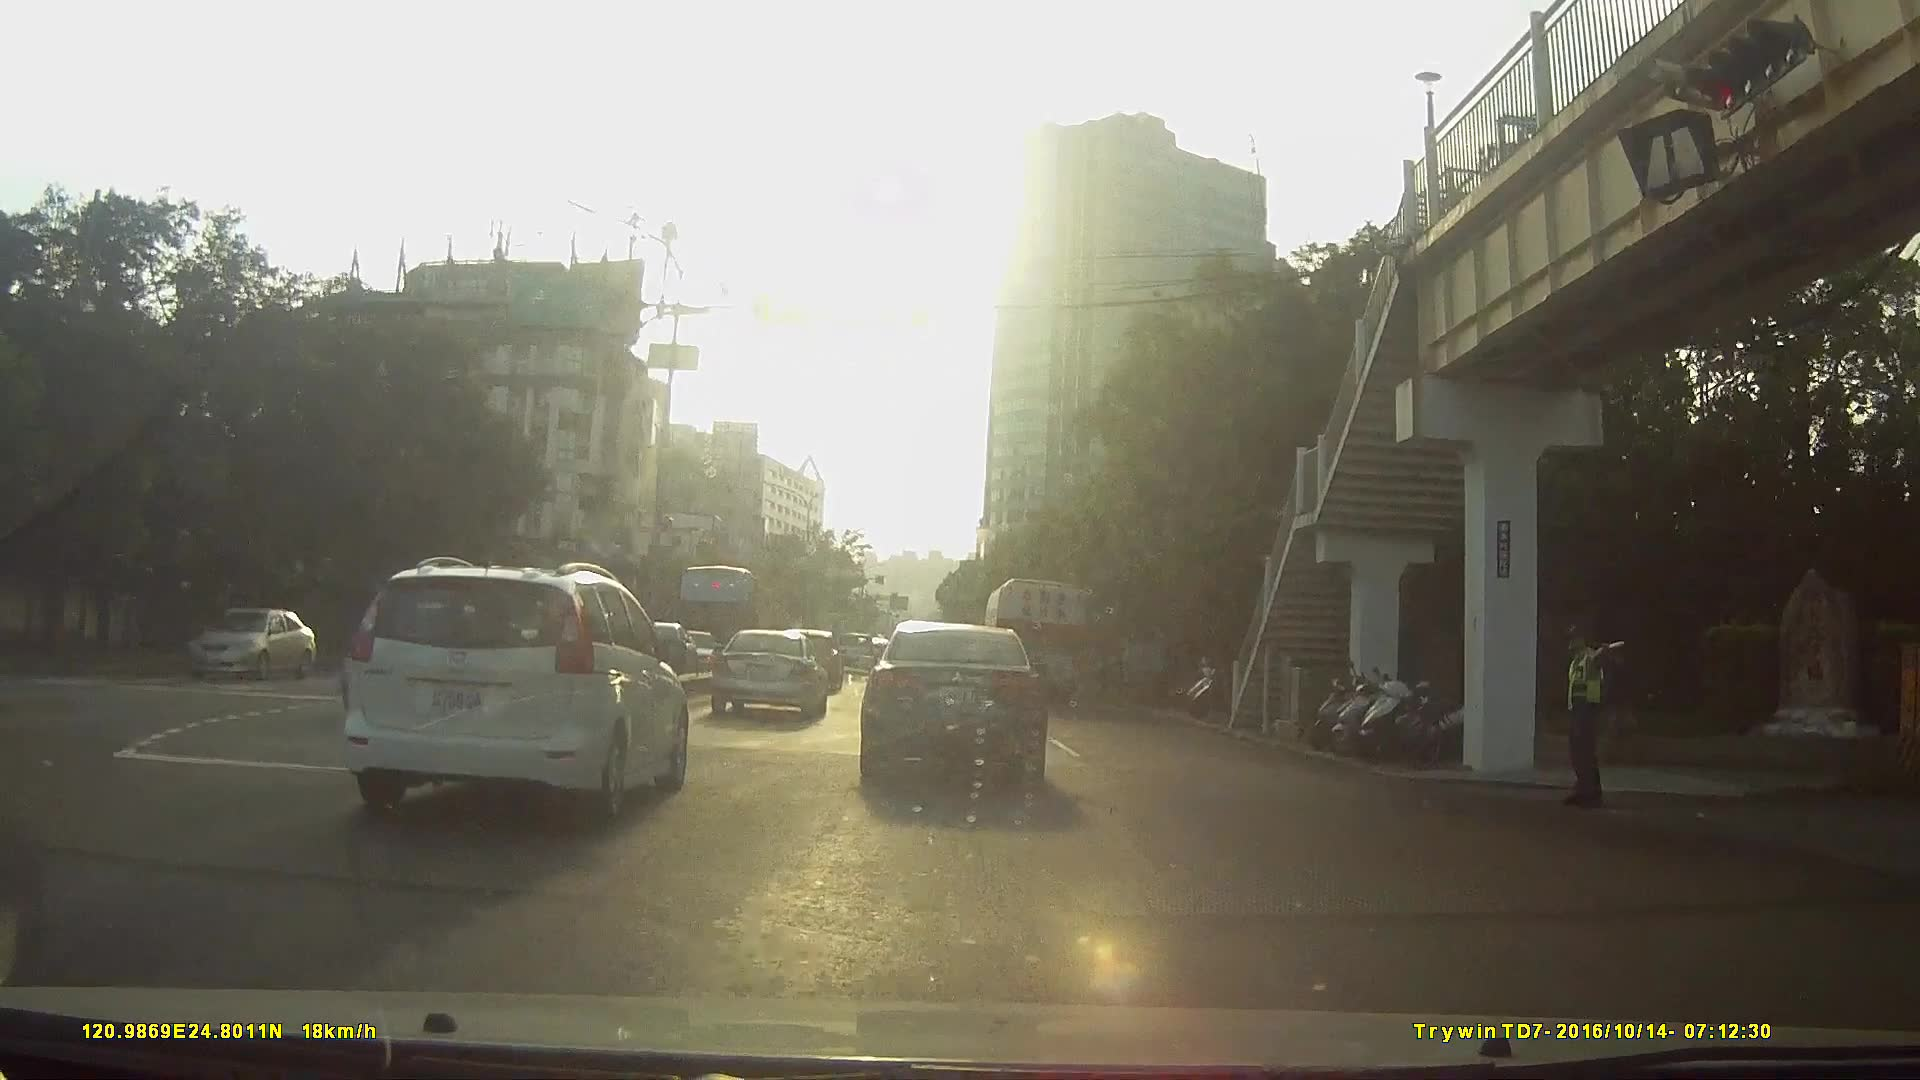pedestrian: (1557, 617, 1635, 805)
vehicle: (250, 556, 684, 868), (347, 552, 692, 819), (856, 613, 1047, 785), (978, 573, 1088, 705), (182, 597, 331, 689), (669, 559, 777, 664), (709, 623, 828, 718), (830, 625, 878, 672)
